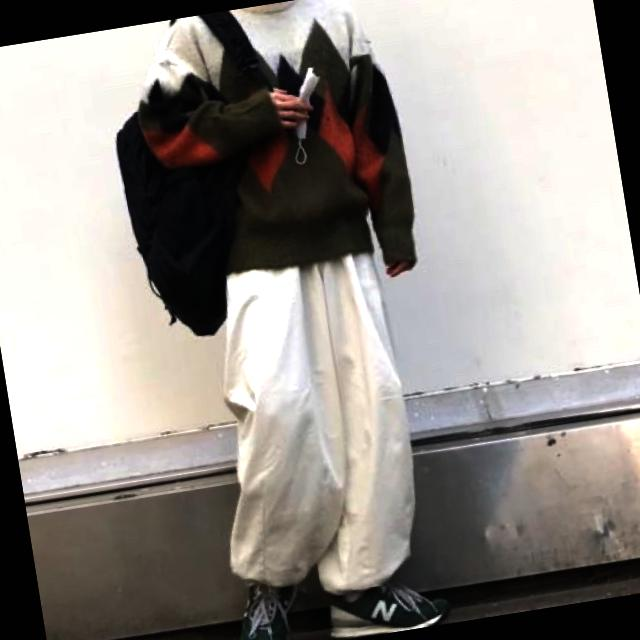cottonpants: (184, 239, 436, 610)
sweater: (130, 0, 418, 297)
